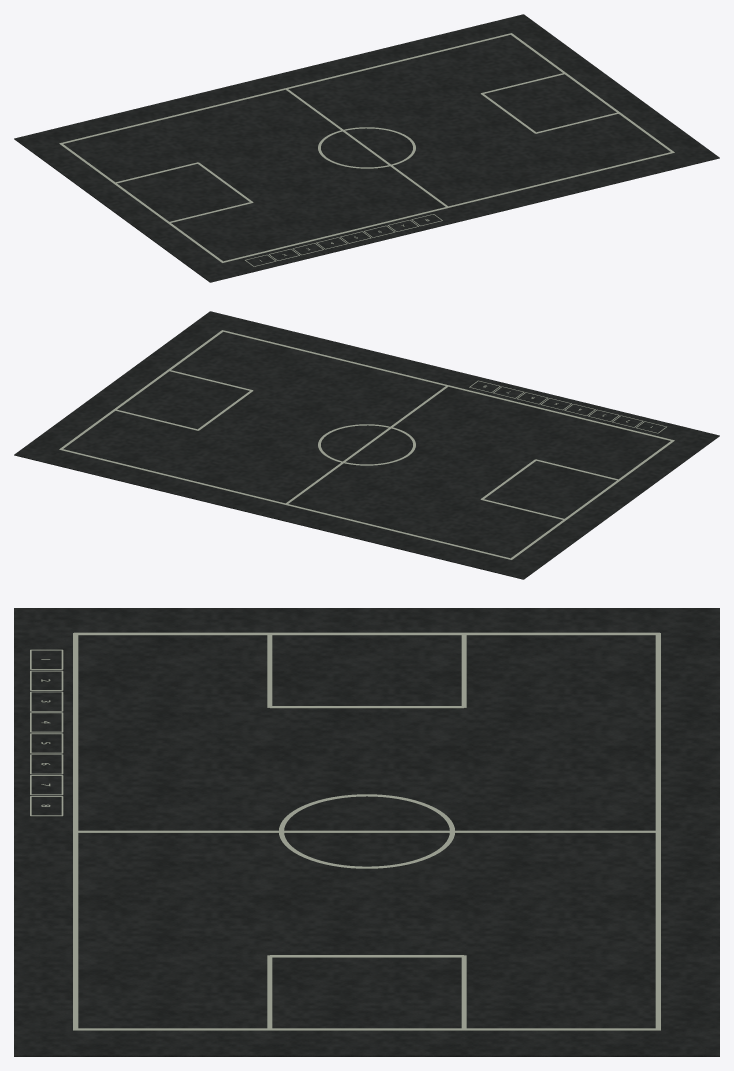
The model's file is school-play-court.glb.
3 views of the same model, one above another, from view 1: azimuth 30°, elevation 25°; view 2: azimuth 150°, elevation 25°; view 3: azimuth 270°, elevation 25° (orthographic). The views are drawn at different scales.
Visible parts, largest first — view 1: Weathered playground asphalt, Court end line, Court end line.001, Court side line, Court side line.001, Painted centre circle, Court centre line; view 2: Weathered playground asphalt, Court end line.001, Court end line, Court side line, Court side line.001, Painted centre circle, Court centre line; view 3: Weathered playground asphalt, Court end line, Court end line.001, Court side line, Court side line.001, Court centre line, Painted centre circle.
Part boxes in pixels (x1=…): Weathered playground asphalt: x1=14, y1=14, x2=719, y2=282; Court end line: x1=221, y1=151, x2=674, y2=262; Court end line.001: x1=59, y1=33, x2=512, y2=144; Court side line: x1=59, y1=143, x2=223, y2=262; Court side line.001: x1=510, y1=33, x2=674, y2=152; Painted centre circle: x1=318, y1=127, x2=415, y2=168; Court centre line: x1=285, y1=88, x2=448, y2=207; Weathered playground asphalt: x1=14, y1=311, x2=719, y2=579; Court end line.001: x1=59, y1=448, x2=512, y2=559; Court end line: x1=222, y1=330, x2=674, y2=441; Court side line: x1=510, y1=440, x2=674, y2=559; Court side line.001: x1=59, y1=330, x2=223, y2=449; Painted centre circle: x1=318, y1=424, x2=415, y2=465; Court centre line: x1=286, y1=385, x2=448, y2=503; Weathered playground asphalt: x1=14, y1=608, x2=719, y2=1056; Court end line: x1=73, y1=633, x2=78, y2=1030; Court end line.001: x1=655, y1=633, x2=660, y2=1030; Court side line: x1=74, y1=632, x2=659, y2=635; Court side line.001: x1=74, y1=1028, x2=659, y2=1030; Court centre line: x1=76, y1=830, x2=656, y2=832; Painted centre circle: x1=278, y1=794, x2=455, y2=868.
Size of the model in its own units: 12 by 0.0237 by 8.
Materials: 2 (1 with a texture image).
